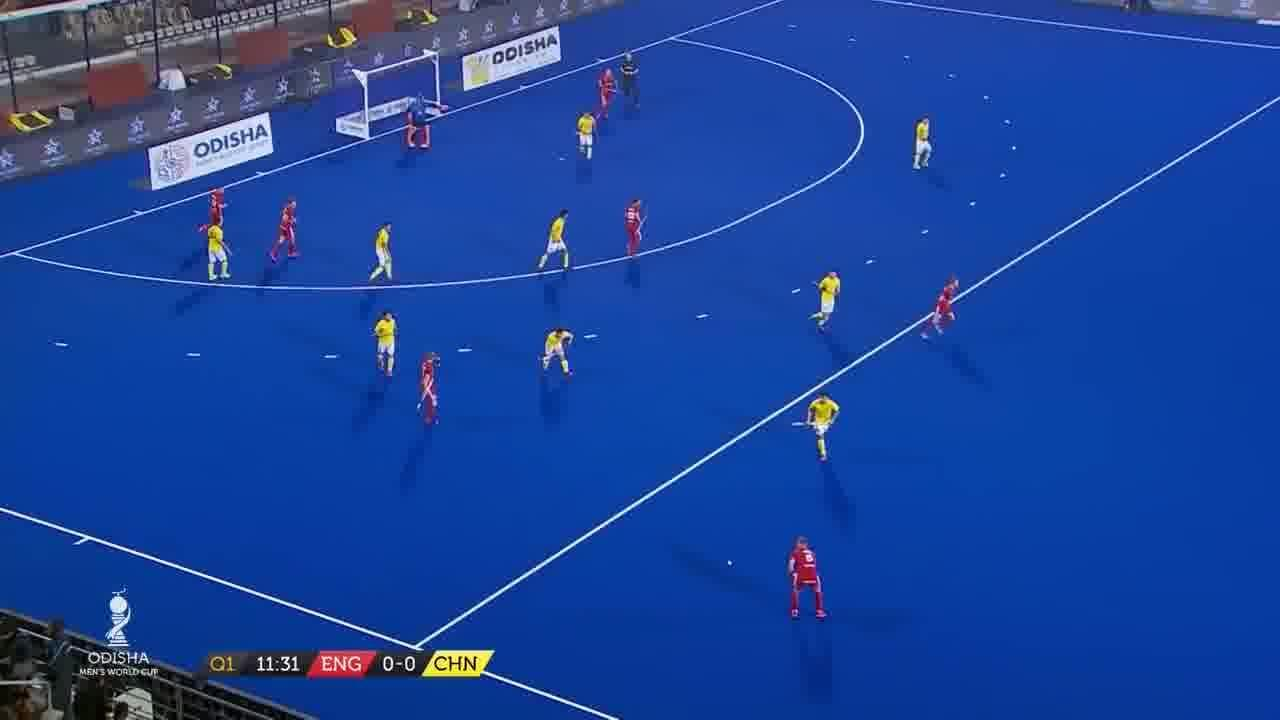ball: (723, 556, 735, 570)
